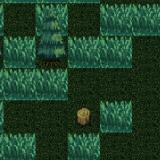Obstacle: (36, 36, 68, 68), (68, 100, 99, 131)
Slow: (0, 68, 68, 100), (68, 36, 132, 68), (100, 3, 160, 36), (36, 3, 68, 36), (3, 36, 36, 68), (100, 100, 132, 132), (0, 133, 36, 160), (68, 132, 100, 160)
